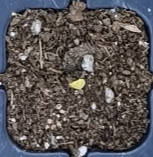pepper seed: (25, 32, 112, 123)
